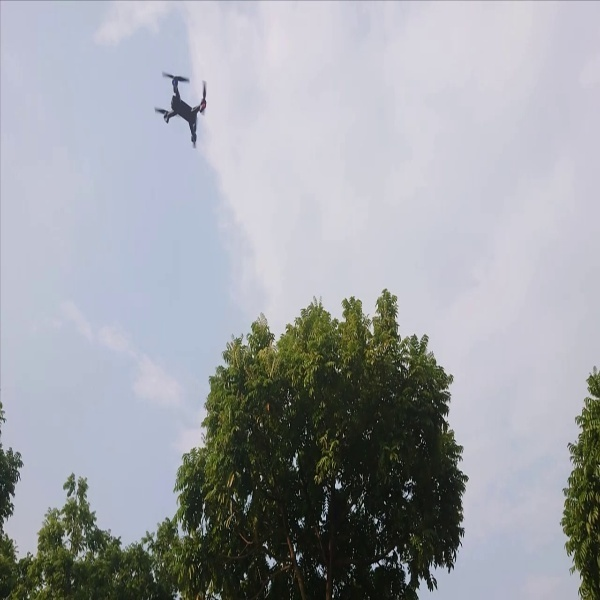drone: (142, 64, 219, 151)
